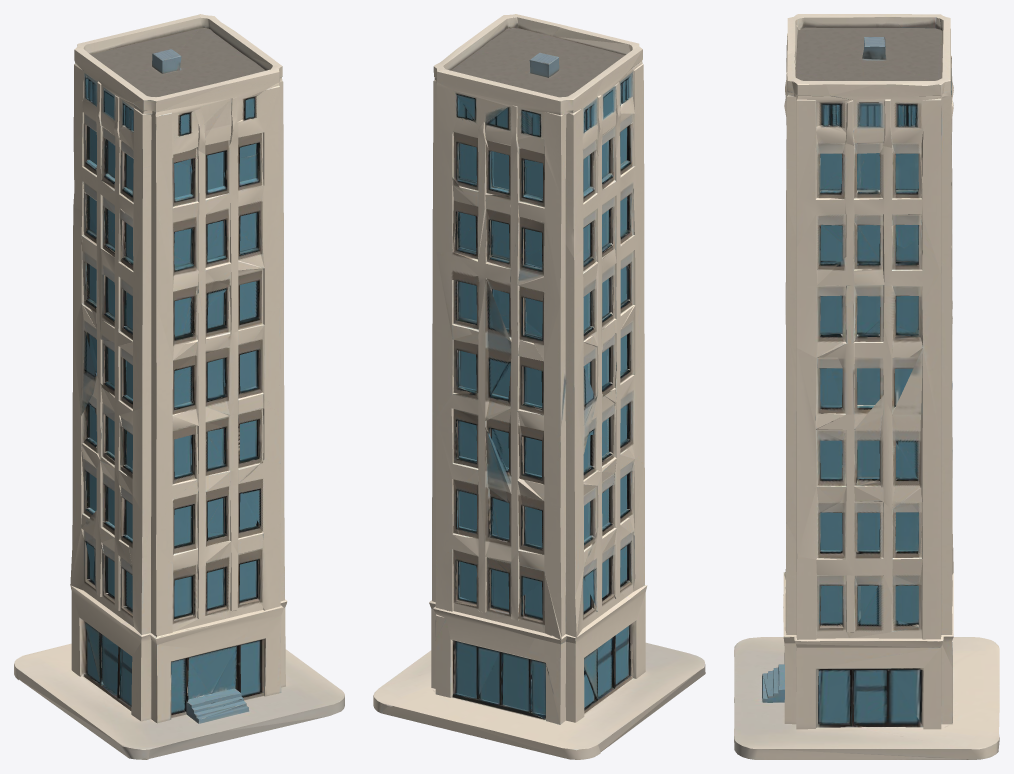
File: building-modern.glb
The picture shows the model from 3 angles, left to right: view 1: azimuth 30°, elevation 25°; view 2: azimuth 150°, elevation 25°; view 3: azimuth 270°, elevation 25°; orthographic projection. The views are drawn at different scales.
Size of the model in its own units: 0.6959 by 1.9 by 0.6963.
1 material, 1 textured.
